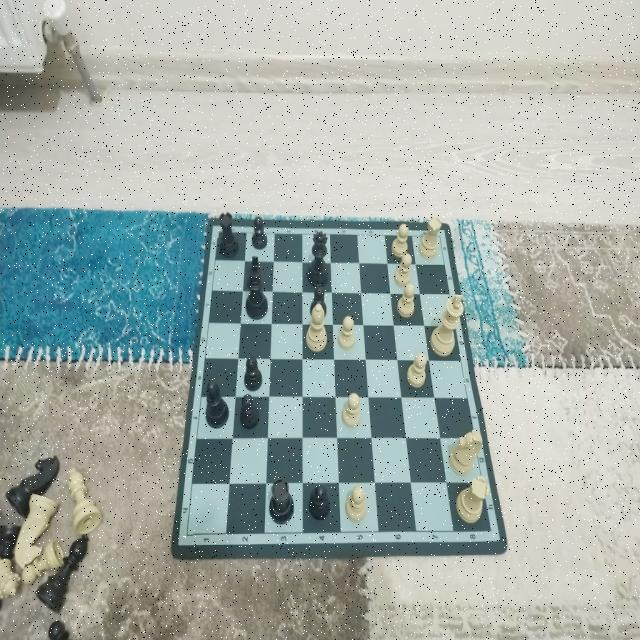corner: (180, 526, 193, 542), (486, 524, 496, 539), (434, 230, 445, 242), (214, 226, 223, 238)
